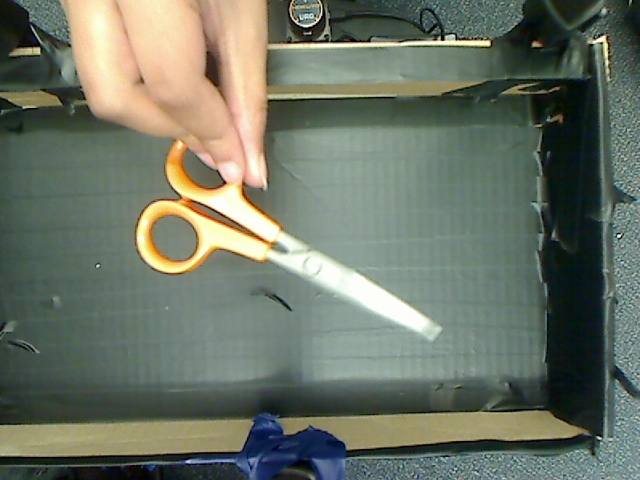scissors: (124, 124, 454, 376)
